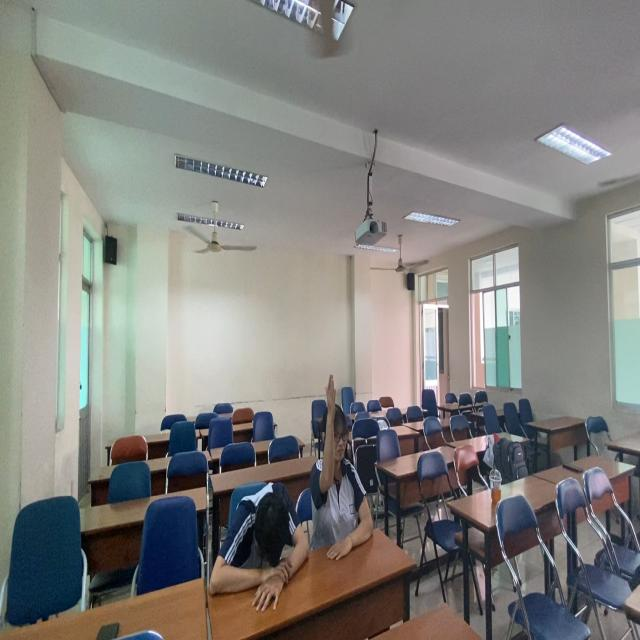raise_hand: (316, 369, 380, 565)
sleep: (208, 476, 310, 616)
